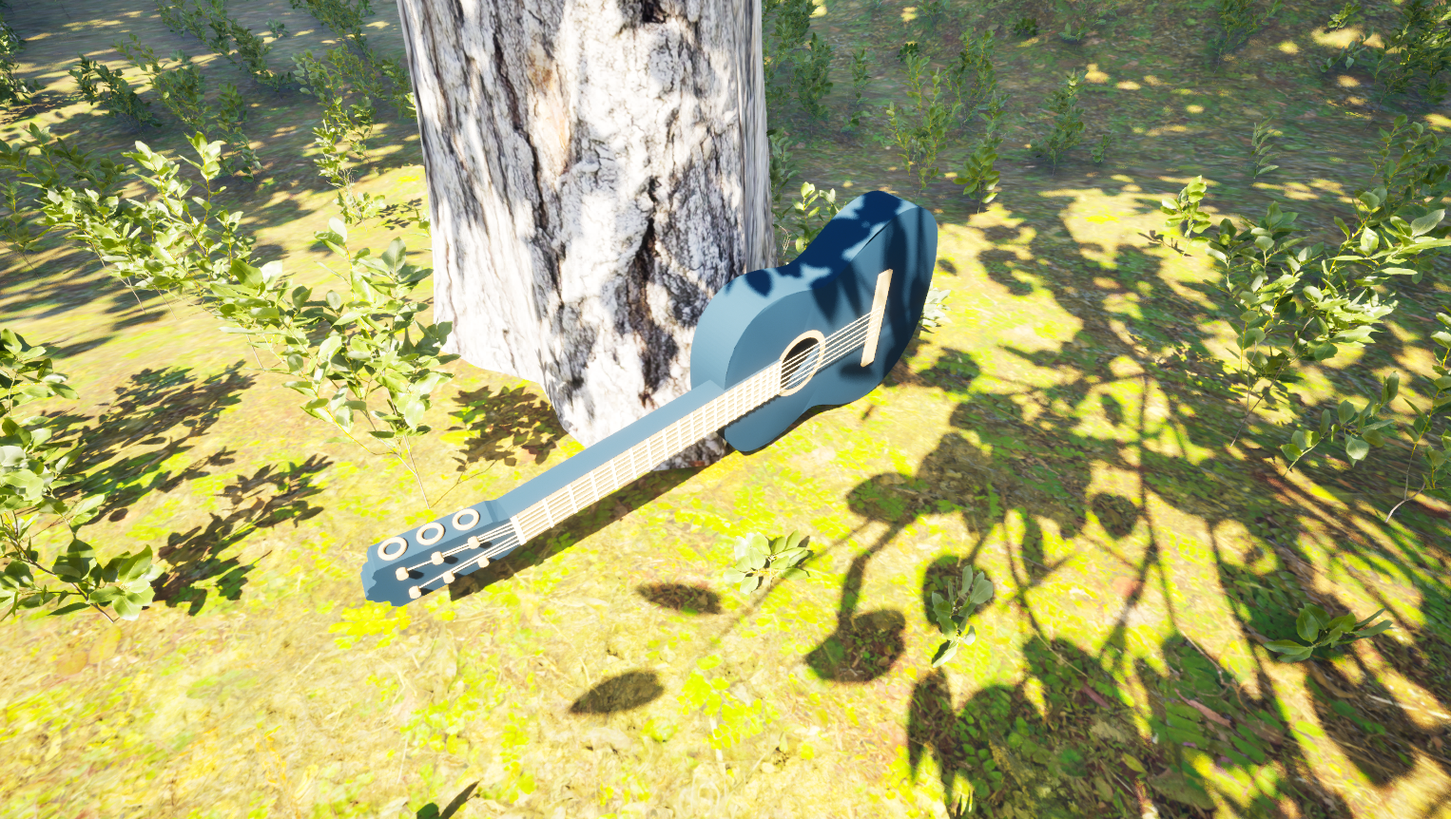Guitar: (266, 171, 960, 691)
